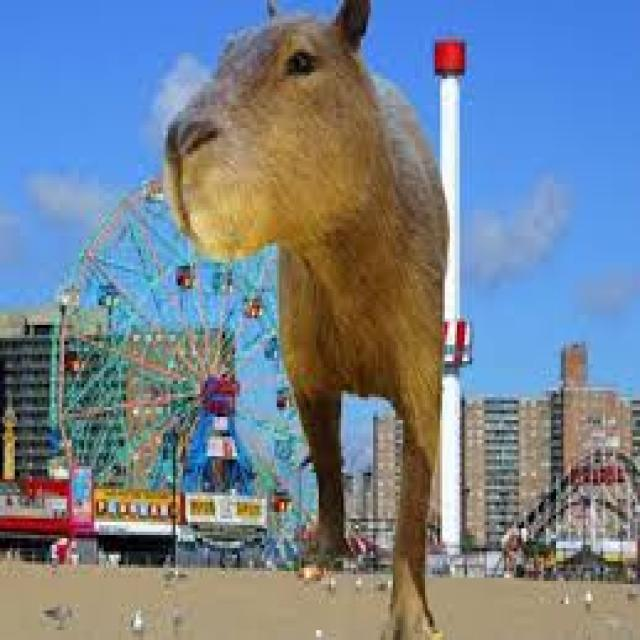capy: (162, 0, 450, 640)
